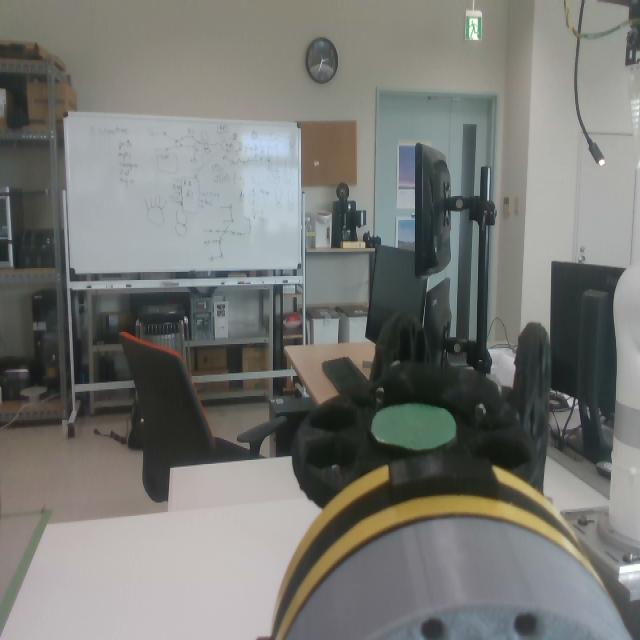body_connector: (281, 516, 640, 640)
connection: (257, 449, 634, 640)
leg: (259, 312, 594, 640)
leg_connector: (266, 451, 601, 640)
marker: (365, 400, 456, 453)
